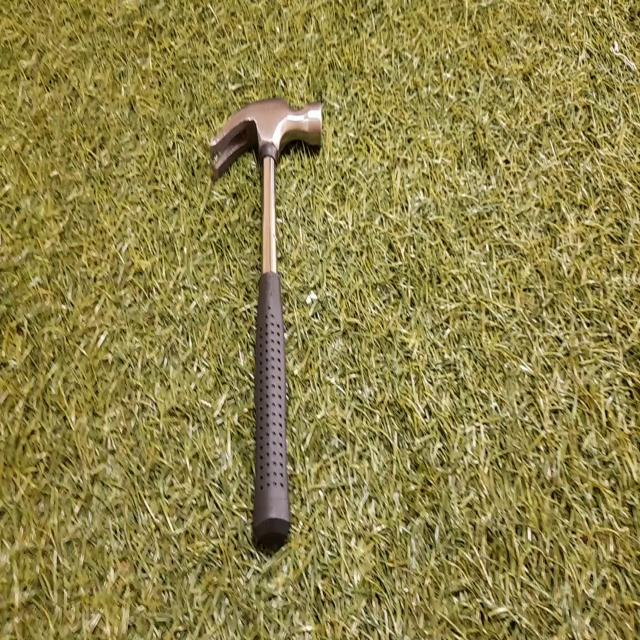hammer: (211, 99, 323, 552)
